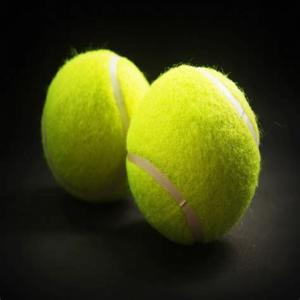Tennis: (125, 60, 258, 244), (46, 44, 156, 200)
